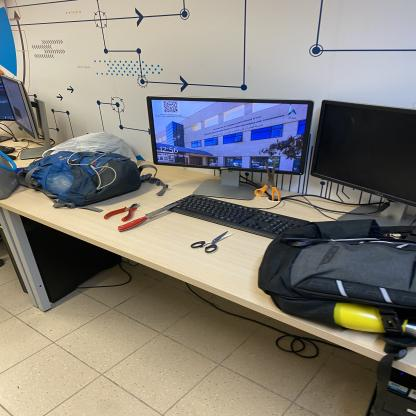Knife: (118, 201, 183, 232)
scissors: (278, 234, 380, 249), (253, 159, 282, 202), (190, 230, 236, 255)
